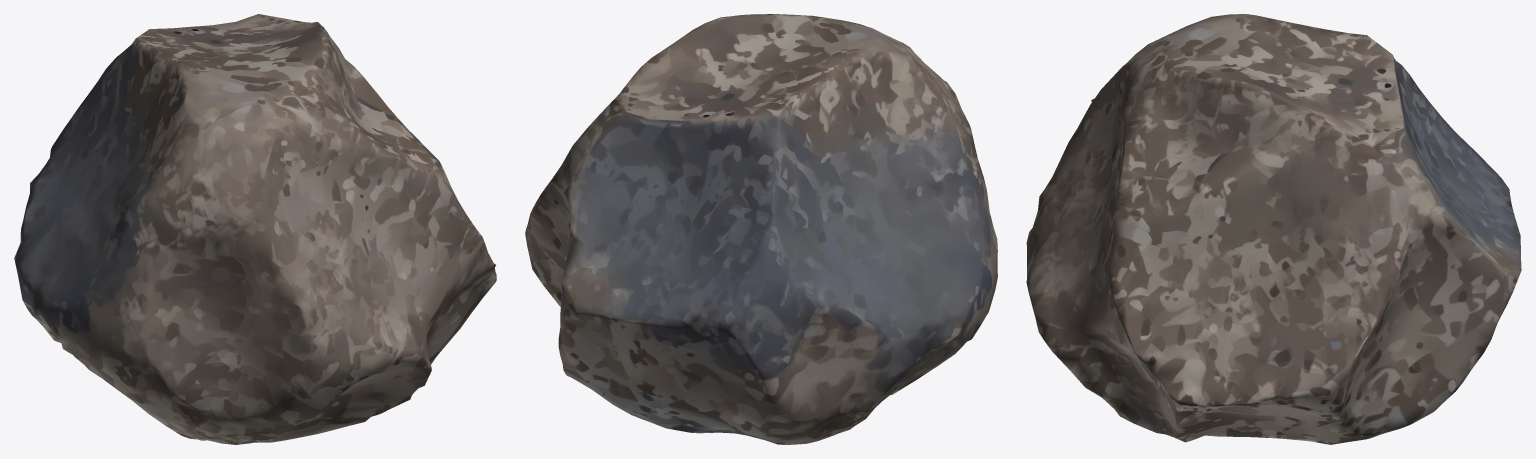
3 renders of one model, left to right at view 1: azimuth 30°, elevation 25°; view 2: azimuth 150°, elevation 25°; view 3: azimuth 270°, elevation 25°, orthographic.
Parts seen in each view (by area): view 1: tripo_node_b2b1b86c-96e9-4e12-8749-bcfee282657d; view 2: tripo_node_b2b1b86c-96e9-4e12-8749-bcfee282657d; view 3: tripo_node_b2b1b86c-96e9-4e12-8749-bcfee282657d.
Part boxes in pixels (left/top/right/bottom): tripo_node_b2b1b86c-96e9-4e12-8749-bcfee282657d: left=14, top=14, right=496, bottom=444; tripo_node_b2b1b86c-96e9-4e12-8749-bcfee282657d: left=525, top=14, right=997, bottom=444; tripo_node_b2b1b86c-96e9-4e12-8749-bcfee282657d: left=1026, top=14, right=1521, bottom=444.
Bounding box in the file's own units: 0.9637 × 0.799 × 1.
Materials: 1 (1 with a texture image).
